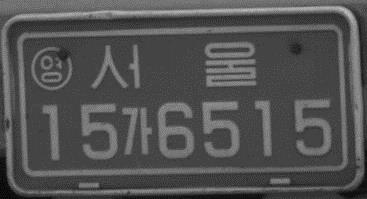1: (38, 99, 67, 163), (249, 97, 278, 158)
5: (290, 96, 334, 155), (200, 98, 242, 158), (78, 100, 119, 160)
6: (155, 99, 194, 160)
가: (119, 105, 155, 158)
서울_D: (88, 40, 259, 90)
영: (31, 43, 73, 92)
